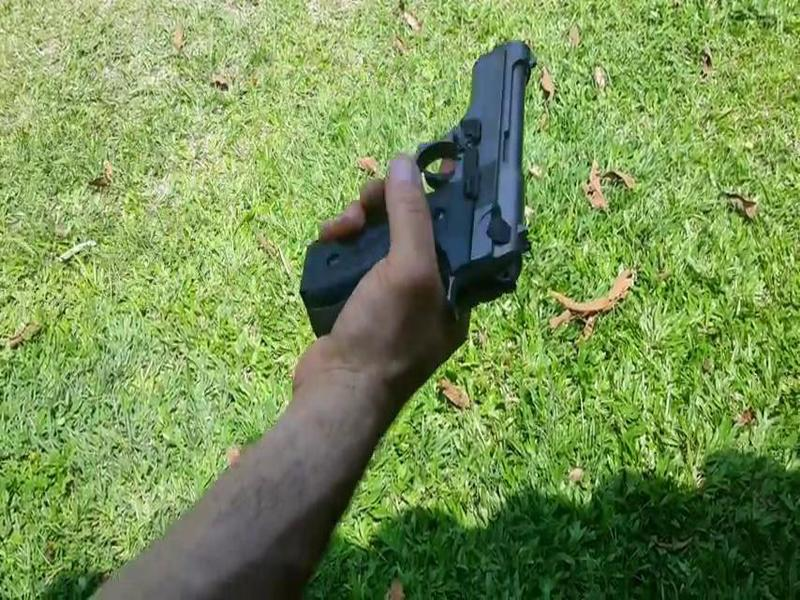Pistola: (300, 34, 543, 319)
